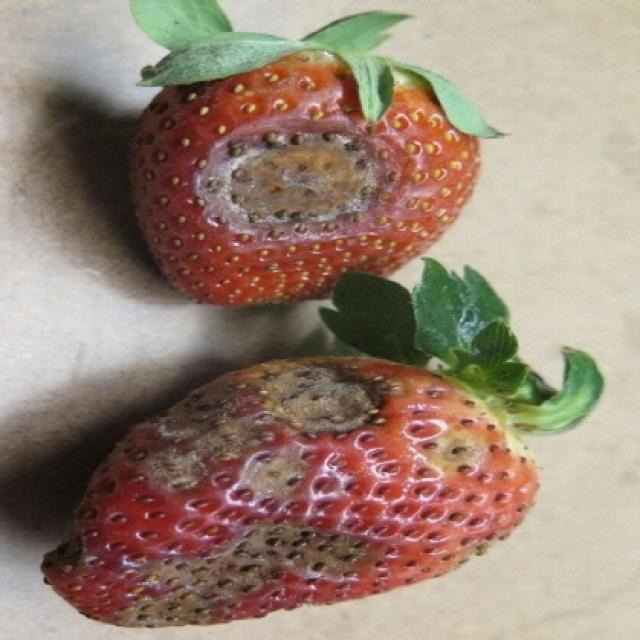Anthracnose Fruit Rot: (38, 357, 407, 629), (188, 115, 413, 242)
